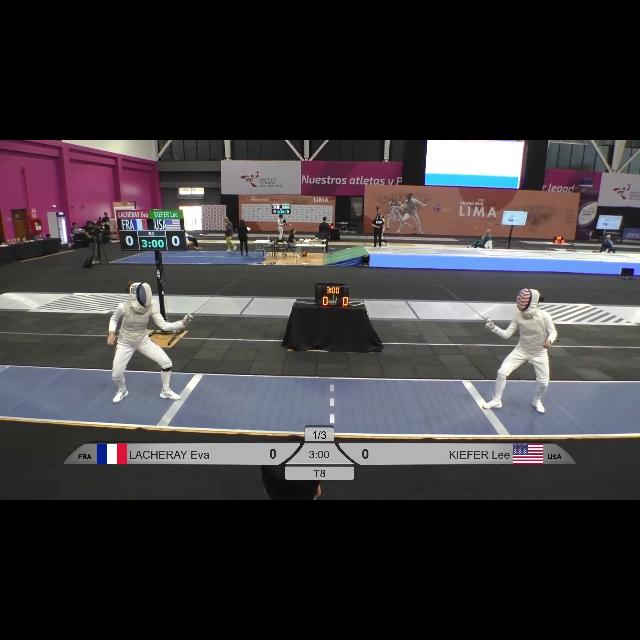blade: (181, 270, 253, 324), (423, 272, 492, 328)
